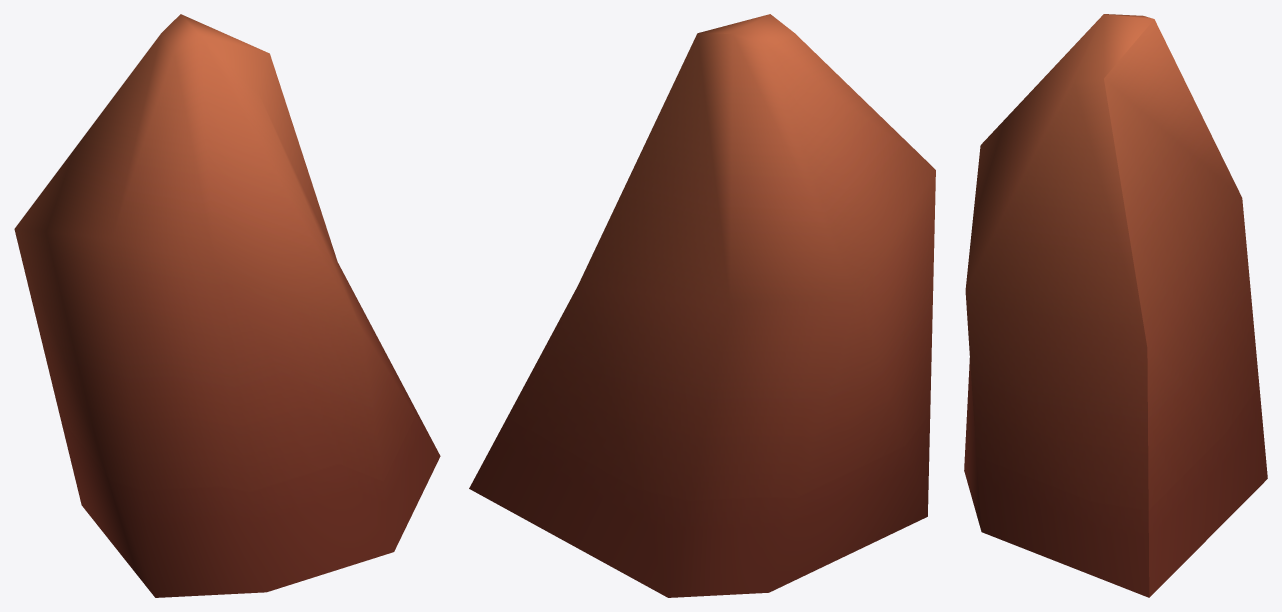
The model's file is rock.005.fbx.
The picture shows the model from 3 angles, left to right: view 1: azimuth 30°, elevation 25°; view 2: azimuth 150°, elevation 25°; view 3: azimuth 270°, elevation 25°; orthographic projection. The views are drawn at different scales.
Visible parts, largest first — view 1: rock.005; view 2: rock.005; view 3: rock.005.
Part boxes in pixels (x1,y1,x2,y2): rock.005: (14, 14, 440, 597); rock.005: (469, 14, 935, 597); rock.005: (964, 14, 1267, 597).
Size of the model in its own units: 2.3 by 2.77 by 1.64.
